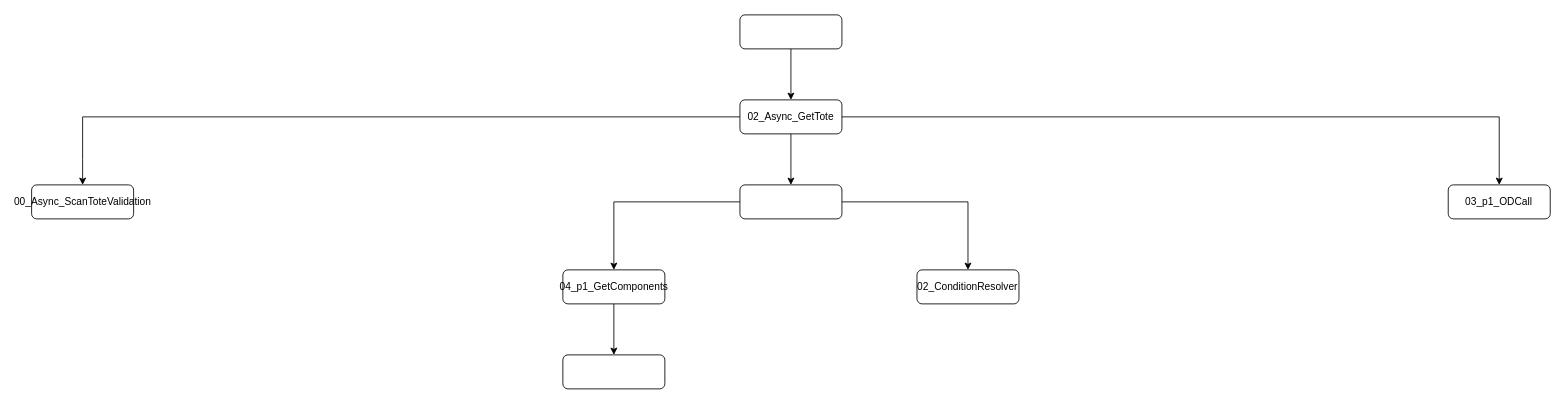
Image size: 1566x404. Some labels were removed from this diagram. The centre of each missing label's shape, as x and y in pixels:
"00_GetShoeCare" goes at (613,371).
"01_Async_Orchestration" goes at (790,31).
"03_p1_GetFlow" goes at (790,201).
